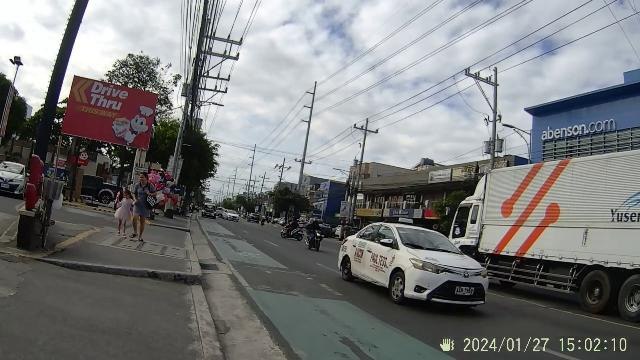utility_post: (462, 60, 504, 168), (296, 78, 320, 190), (350, 115, 380, 192), (244, 143, 260, 193)
